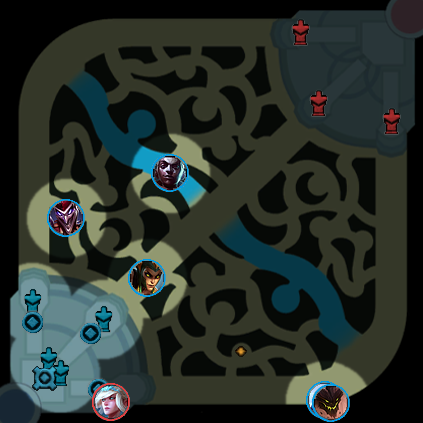Cassiopeia: (128, 259, 166, 297)
Ekko: (151, 154, 189, 192)
Janna: (92, 383, 130, 421)
Malphite: (312, 384, 350, 422)
Shaco: (47, 199, 85, 237)
Xerath: (306, 381, 344, 419)
